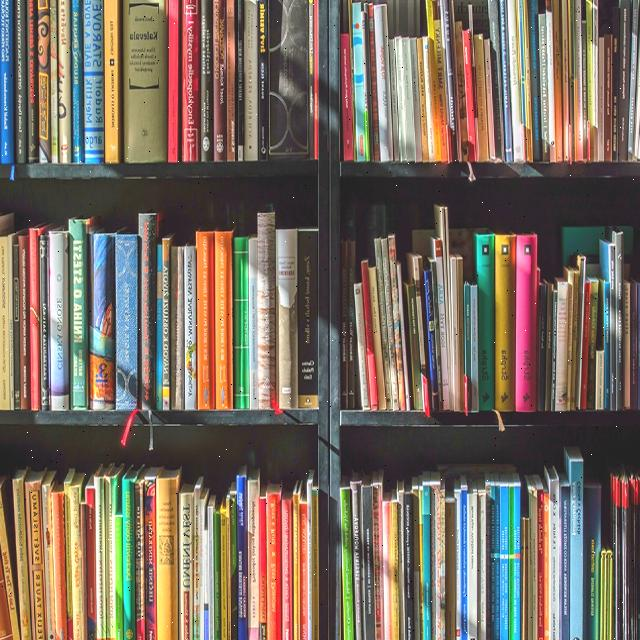book: (90, 233, 116, 412), (116, 234, 140, 412), (26, 471, 50, 640), (12, 472, 36, 639), (157, 467, 180, 640), (256, 210, 276, 408), (495, 233, 517, 412), (516, 233, 538, 412), (474, 232, 496, 410), (277, 227, 298, 410), (214, 228, 234, 410), (84, 0, 106, 165), (69, 220, 88, 409), (140, 212, 158, 405), (566, 447, 584, 640), (68, 471, 88, 640), (144, 466, 163, 640), (51, 228, 69, 410), (388, 237, 406, 407), (103, 0, 122, 161), (373, 2, 392, 162), (196, 231, 213, 409), (121, 465, 138, 640), (51, 476, 69, 640), (233, 236, 250, 406), (183, 0, 200, 162), (340, 479, 357, 640), (351, 3, 368, 163), (361, 474, 377, 640), (435, 240, 450, 410), (28, 228, 42, 409), (267, 482, 283, 640), (413, 256, 429, 412), (93, 464, 107, 640), (37, 0, 52, 164), (18, 232, 32, 407), (162, 236, 176, 409), (0, 0, 15, 161), (244, 0, 259, 158), (362, 262, 378, 410), (350, 472, 364, 640), (180, 484, 195, 640), (184, 242, 198, 409), (549, 463, 562, 640), (70, 0, 84, 162), (14, 0, 28, 161), (213, 0, 227, 161), (247, 469, 260, 640), (58, 0, 71, 161), (200, 0, 213, 161), (27, 0, 40, 161), (237, 470, 249, 640), (248, 237, 260, 405), (407, 285, 423, 410), (467, 491, 480, 640), (430, 262, 443, 411), (614, 231, 625, 407), (258, 0, 270, 158), (628, 0, 640, 156), (199, 485, 211, 640), (281, 487, 293, 640), (421, 476, 432, 640), (226, 0, 237, 157), (574, 0, 584, 156), (50, 0, 59, 162), (457, 258, 465, 411), (451, 258, 459, 411), (536, 490, 544, 640)
